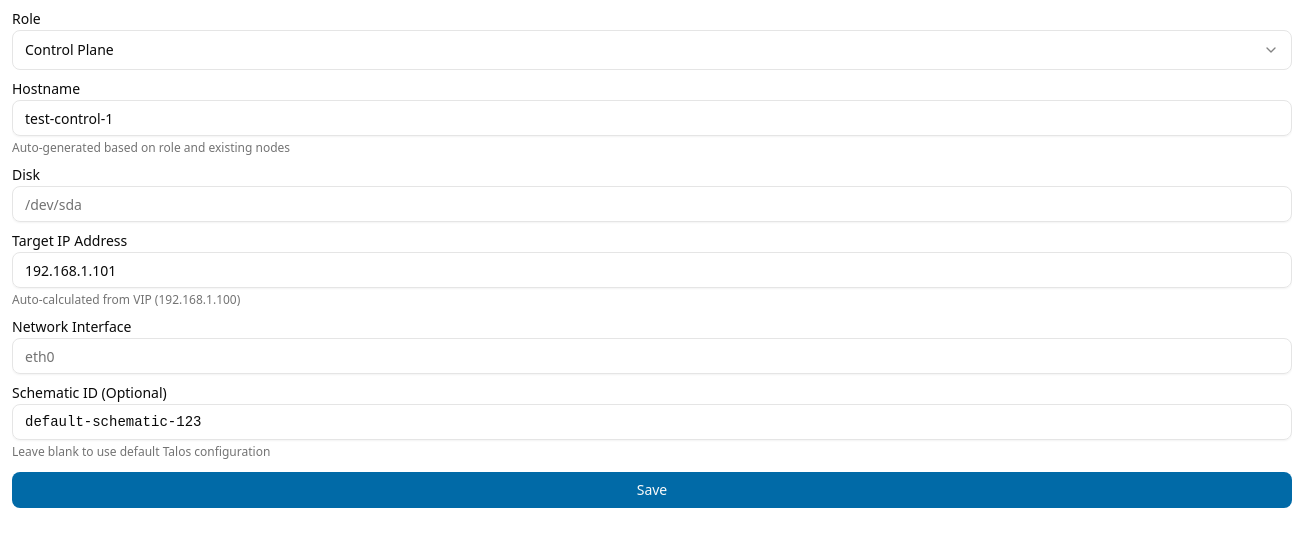
it: NodeForm Integration Tests › Priority 2: Edge Cases › Form Validation › shows error when hostname is empty
Clear the field labelled "Hostname" at (652, 118), box top-left (12, 100), bottom-right (1292, 136)
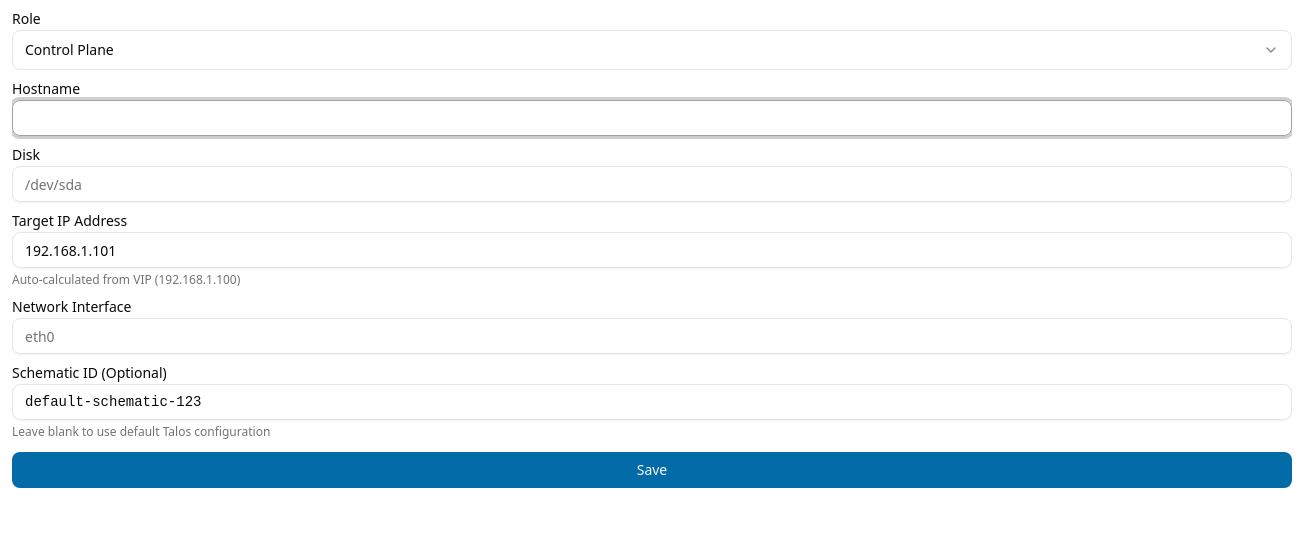
Click the button "Save".
click(652, 470)  # box top-left (12, 452), bottom-right (1292, 488)
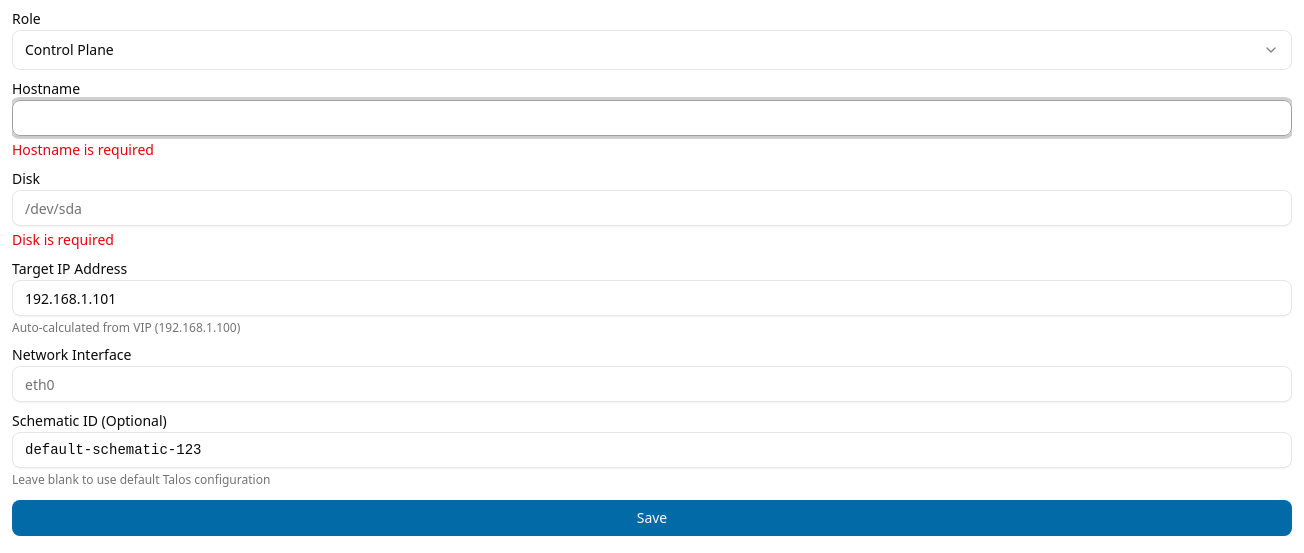
Expected: the text "Hostname is required" is shown, top-left (12, 140), bottom-right (154, 159)
